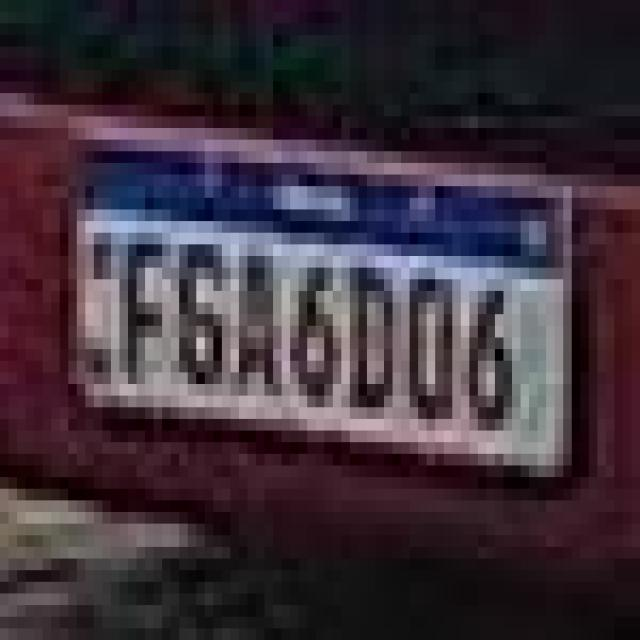0: (404, 264, 463, 424)
6: (466, 271, 521, 437), (174, 234, 232, 391), (290, 249, 346, 410)
A: (226, 240, 286, 405)
D: (344, 261, 402, 413)
F: (120, 232, 174, 389)
